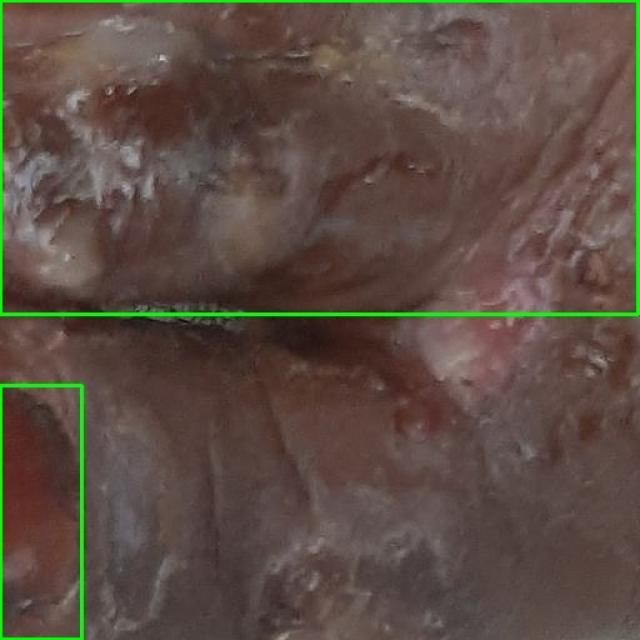Eczema: (0, 0, 638, 314), (0, 385, 81, 639)
